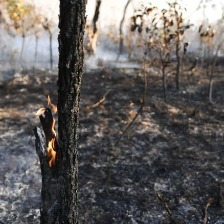incendio: (86, 30, 143, 87), (1, 34, 52, 81)
